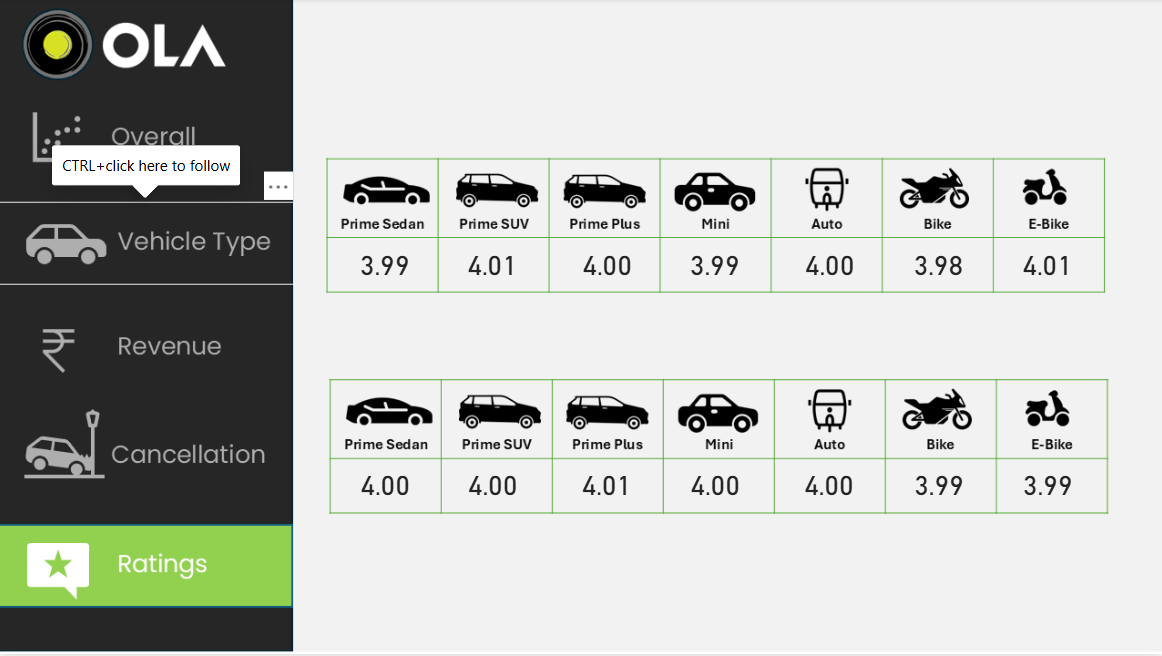

This screenshot's page, from the dashboard's own definition file:
{"tool":"powerbi","page":{"name":"Ratings","canvas":[1280,720],"ordinal":4},"visuals":[{"type":"actionButton","box":[0,223.2,324.5,90.5],"z":0},{"type":"actionButton","box":[1.2,339,324.5,90.5],"z":1000},{"type":"actionButton","box":[0,448.8,324.5,90.5],"z":2000},{"type":"actionButton","box":[0,577.9,324.5,90.5],"z":3000},{"type":"actionButton","box":[0,111,324.5,90.5],"z":4000},{"type":"card","fields":{"Values":["Avg(July.Driver_Ratings)"]},"box":[354,259.3,141.3,64.5],"z":4001},{"type":"card","fields":{"Values":["Avg(July.Driver_Ratings)"]},"box":[598.3,259.3,141.3,64.5],"z":4002},{"type":"card","fields":{"Values":["Avg(July.Driver_Ratings)"]},"box":[716.3,259.3,141.3,64.5],"z":4003},{"type":"card","fields":{"Values":["Avg(July.Driver_Ratings)"]},"box":[842.5,259.3,141.3,64.5],"z":4004},{"type":"card","fields":{"Values":["Avg(July.Driver_Ratings)"]},"box":[961.9,259.3,141.3,64.5],"z":4005},{"type":"card","fields":{"Values":["Avg(July.Driver_Ratings)"]},"box":[1081.3,259.3,141.3,64.5],"z":4006},{"type":"card","fields":{"Values":["Avg(July.Driver_Ratings)"]},"box":[472,259.3,141.3,64.5],"z":4007},{"type":"card","fields":{"Values":["Avg(July.Customer_Rating)"]},"box":[354,503.6,142.7,59],"z":4008},{"type":"card","fields":{"Values":["Avg(July.Customer_Rating)"]},"box":[472,503.6,142.7,59],"z":4009},{"type":"card","fields":{"Values":["Avg(July.Customer_Rating)"]},"box":[841.2,503.6,142.7,59],"z":4010},{"type":"card","fields":{"Values":["Avg(July.Customer_Rating)"]},"box":[716.3,503.6,142.7,59],"z":4011},{"type":"card","fields":{"Values":["Avg(July.Customer_Rating)"]},"box":[596.9,503.6,142.7,59],"z":4012},{"type":"card","fields":{"Values":["Avg(July.Customer_Rating)"]},"box":[1081.3,503.6,142.7,59],"z":4013},{"type":"card","fields":{"Values":["Avg(July.Customer_Rating)"]},"box":[961.9,503.6,142.7,59],"z":4014}]}

Visuals, with their boxes on the page's 1280x720 design canvas (x1, y1, x2, y2). These are canvas units, not pixel positions in the 1162x656 screenshot, which may show the page scaled, cropped or inside an application window:
actionButton: 0,223,324,314
actionButton: 1,339,326,430
actionButton: 0,449,324,539
actionButton: 0,578,324,668
actionButton: 0,111,324,202
card - Avg(July.Driver_Ratings): 354,259,495,324
card - Avg(July.Driver_Ratings): 598,259,740,324
card - Avg(July.Driver_Ratings): 716,259,858,324
card - Avg(July.Driver_Ratings): 842,259,984,324
card - Avg(July.Driver_Ratings): 962,259,1103,324
card - Avg(July.Driver_Ratings): 1081,259,1223,324
card - Avg(July.Driver_Ratings): 472,259,613,324
card - Avg(July.Customer_Rating): 354,504,497,563
card - Avg(July.Customer_Rating): 472,504,615,563
card - Avg(July.Customer_Rating): 841,504,984,563
card - Avg(July.Customer_Rating): 716,504,859,563
card - Avg(July.Customer_Rating): 597,504,740,563
card - Avg(July.Customer_Rating): 1081,504,1224,563
card - Avg(July.Customer_Rating): 962,504,1105,563
